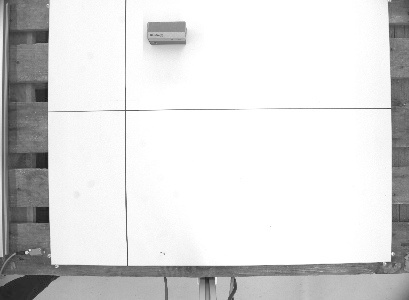b3: (145, 19, 190, 47)
